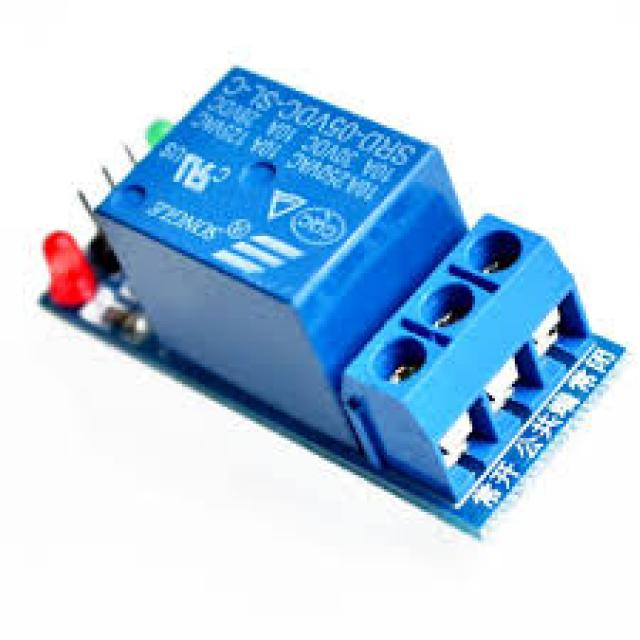Relay: (88, 65, 606, 538)
